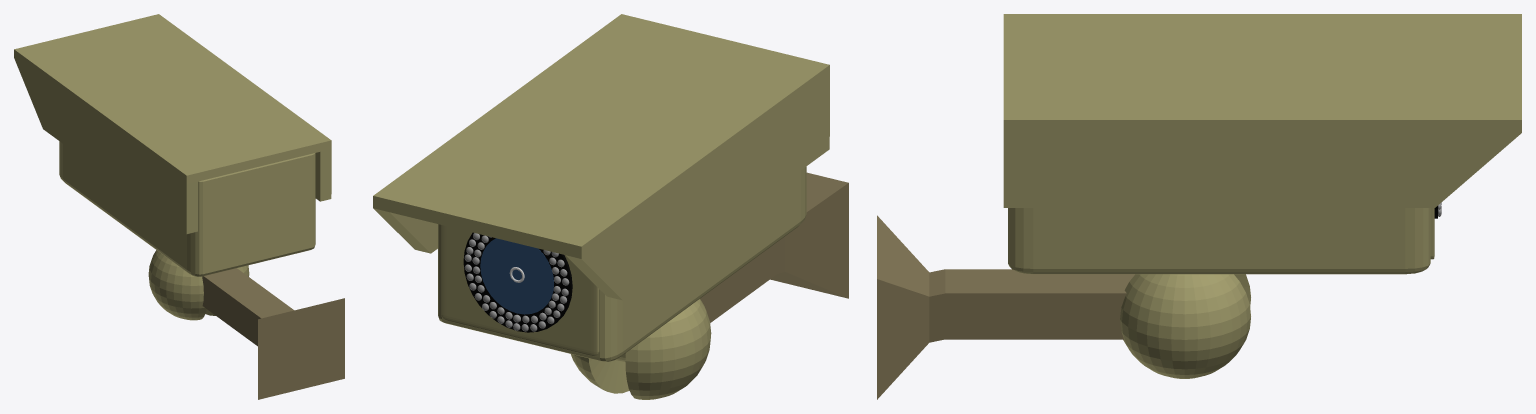
The model's file is Camara.glb.
3 views of the same model, side by side, from view 1: azimuth 30°, elevation 25°; view 2: azimuth 150°, elevation 25°; view 3: azimuth 270°, elevation 25° (orthographic). The views are drawn at different scales.
Parts seen in each view (by area): view 1: Cubo.002, Cubo.003; view 2: Cubo.002, Cubo.003; view 3: Cubo.002, Cubo.003.
Part boxes in pixels (x1=…): Cubo.002: x1=14, y1=14, x2=331, y2=276; Cubo.003: x1=148, y1=250, x2=344, y2=399; Cubo.002: x1=373, y1=14, x2=829, y2=361; Cubo.003: x1=571, y1=172, x2=848, y2=399; Cubo.002: x1=1003, y1=14, x2=1521, y2=274; Cubo.003: x1=877, y1=215, x2=1250, y2=399.
Bounding box in the file's own units: 2.71 × 3.6 × 6.97.
